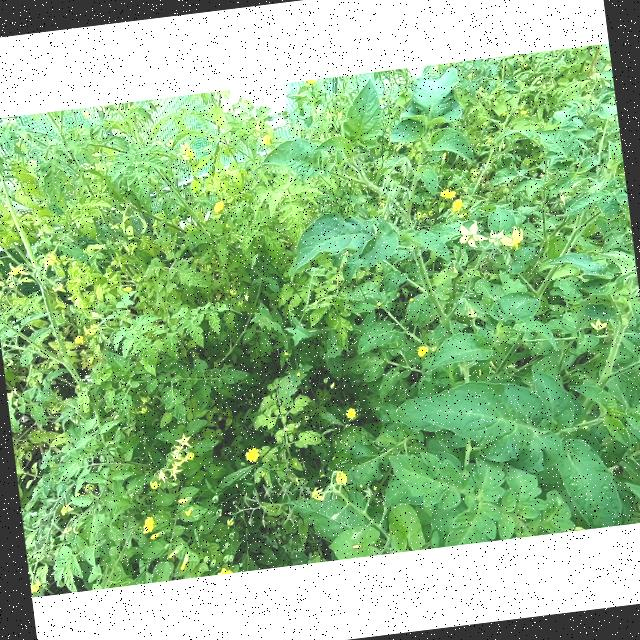Flowers: (486, 224, 526, 253), (456, 220, 487, 248), (140, 514, 164, 540), (5, 260, 32, 278), (167, 446, 196, 462), (167, 459, 186, 480), (179, 140, 196, 162), (332, 468, 350, 486), (242, 447, 262, 462), (174, 433, 194, 448), (590, 316, 608, 332), (310, 485, 326, 502), (42, 250, 59, 266), (439, 186, 458, 200), (82, 322, 101, 336), (59, 500, 75, 516), (416, 343, 430, 358), (451, 198, 465, 213), (30, 577, 42, 594), (140, 394, 150, 414), (252, 119, 262, 138), (156, 467, 168, 482), (344, 406, 357, 418), (212, 200, 225, 212), (148, 479, 162, 490), (215, 565, 232, 574), (418, 210, 434, 218), (558, 192, 568, 204), (260, 134, 270, 146), (305, 80, 317, 88), (74, 334, 84, 342), (91, 310, 100, 318), (121, 286, 132, 292)
